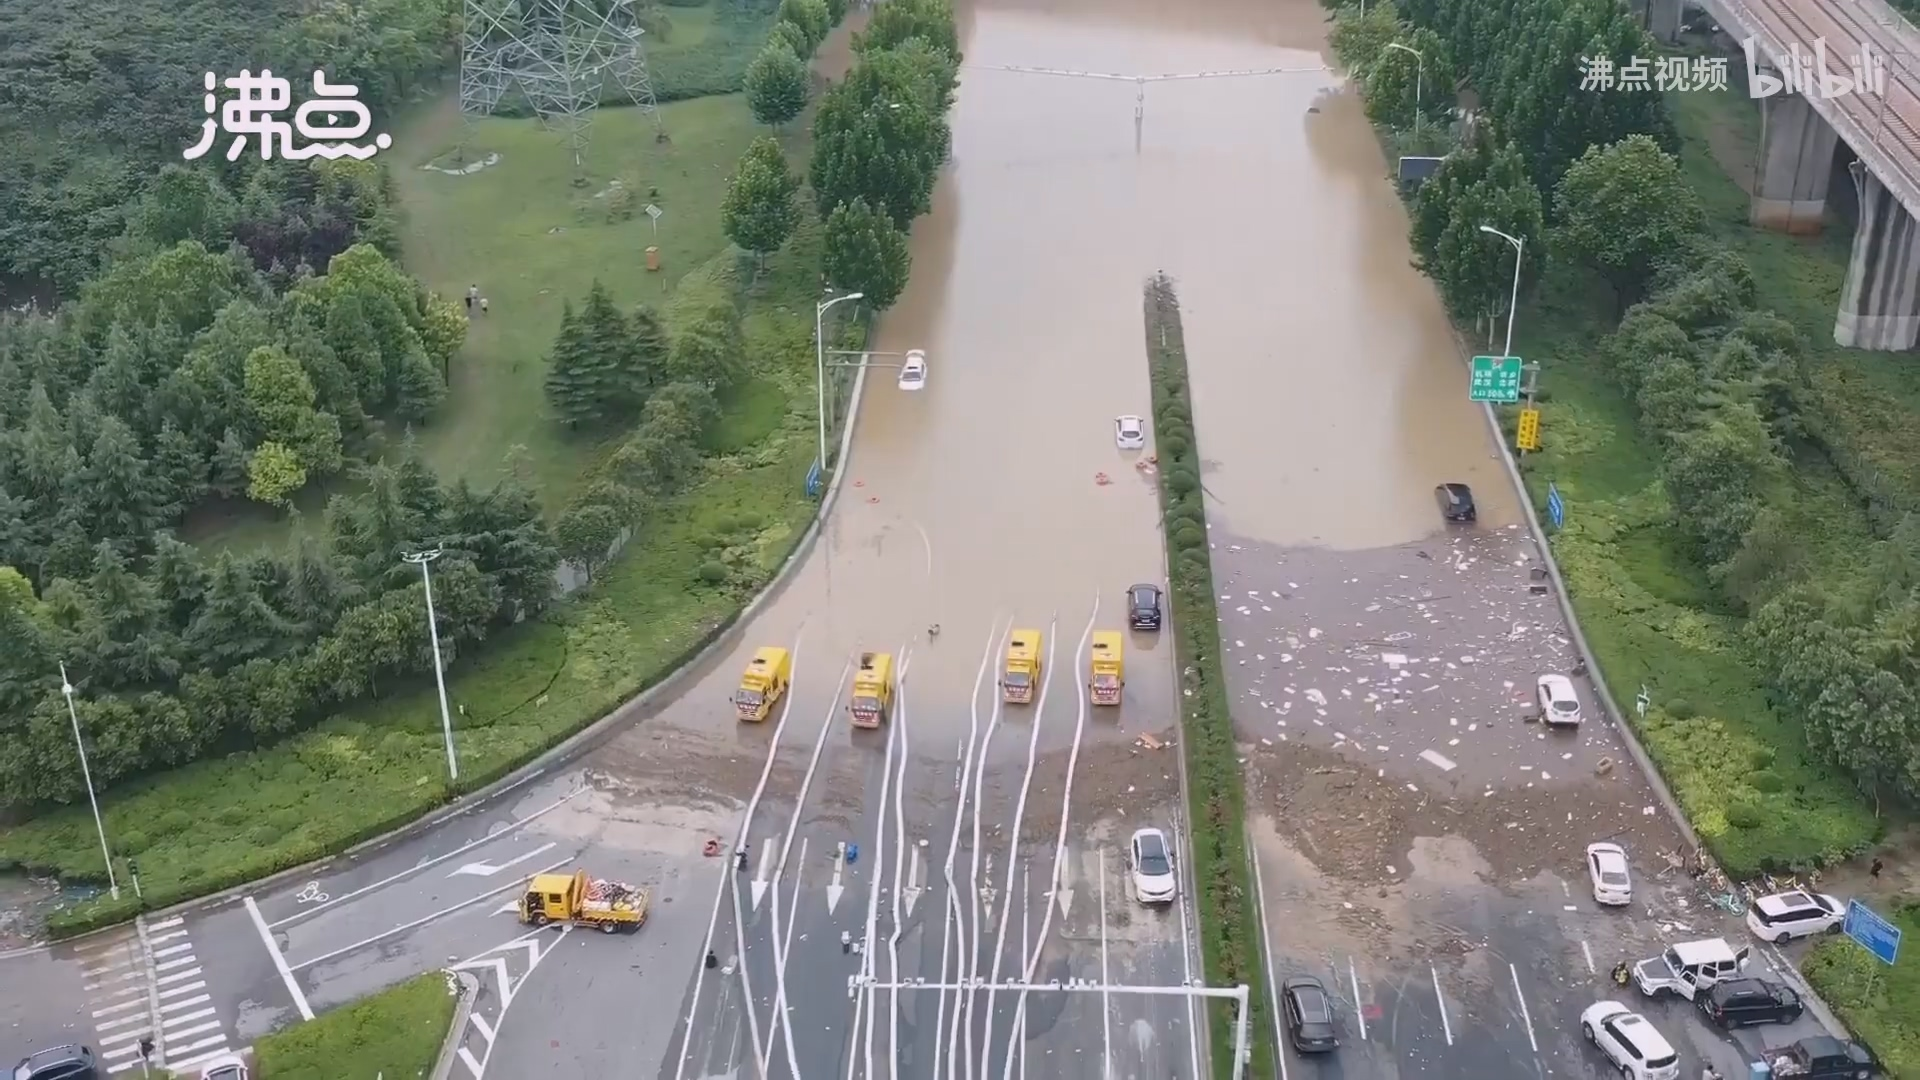puddle: (829, 42, 1474, 684)
